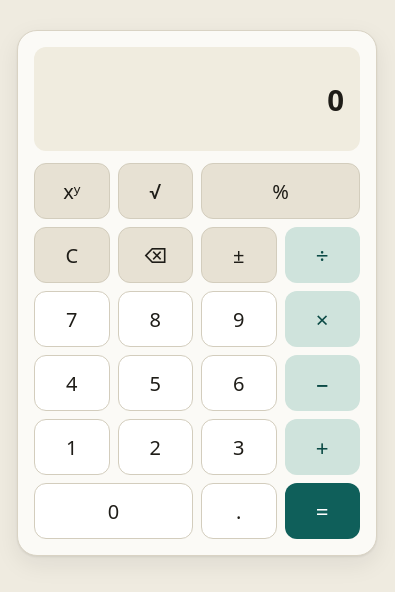
Test: Calculator: errors › maps negative square roots by code
Click the button "5" at (155, 383), box [118,355,193,411]
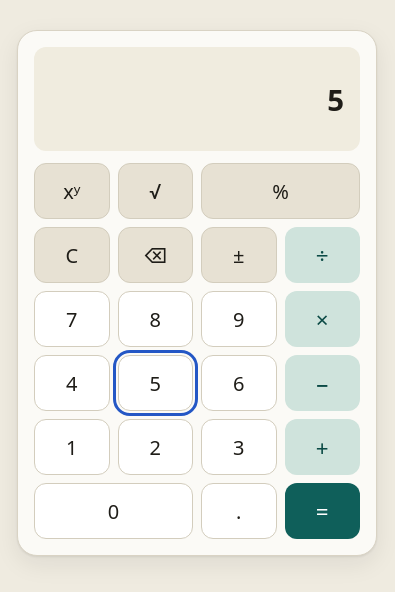
Click the button named "toggle sign" at (239, 255), box [201,227,276,283]
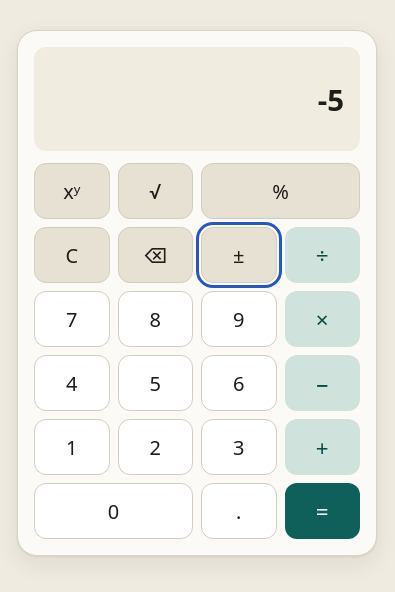
Click the button named "square root" at (155, 191), box [118,163,193,219]
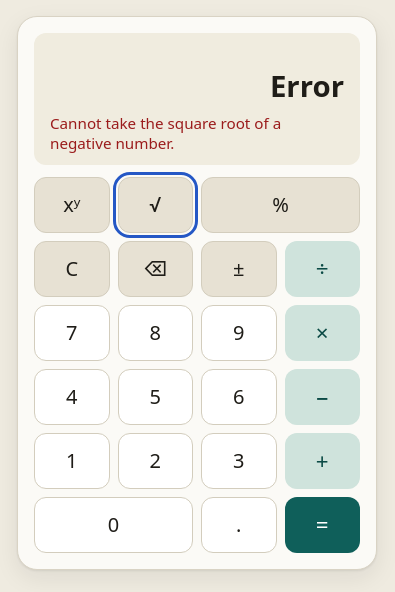
Expected: the message "Cannot take the square root of a negative number." is shown, [50,113,281,153]
